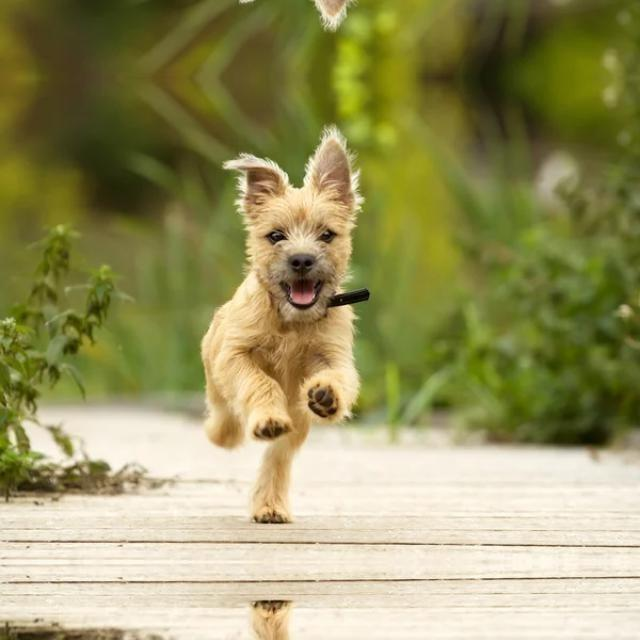dog: (188, 126, 406, 522), (188, 601, 407, 640), (188, 0, 407, 27)
